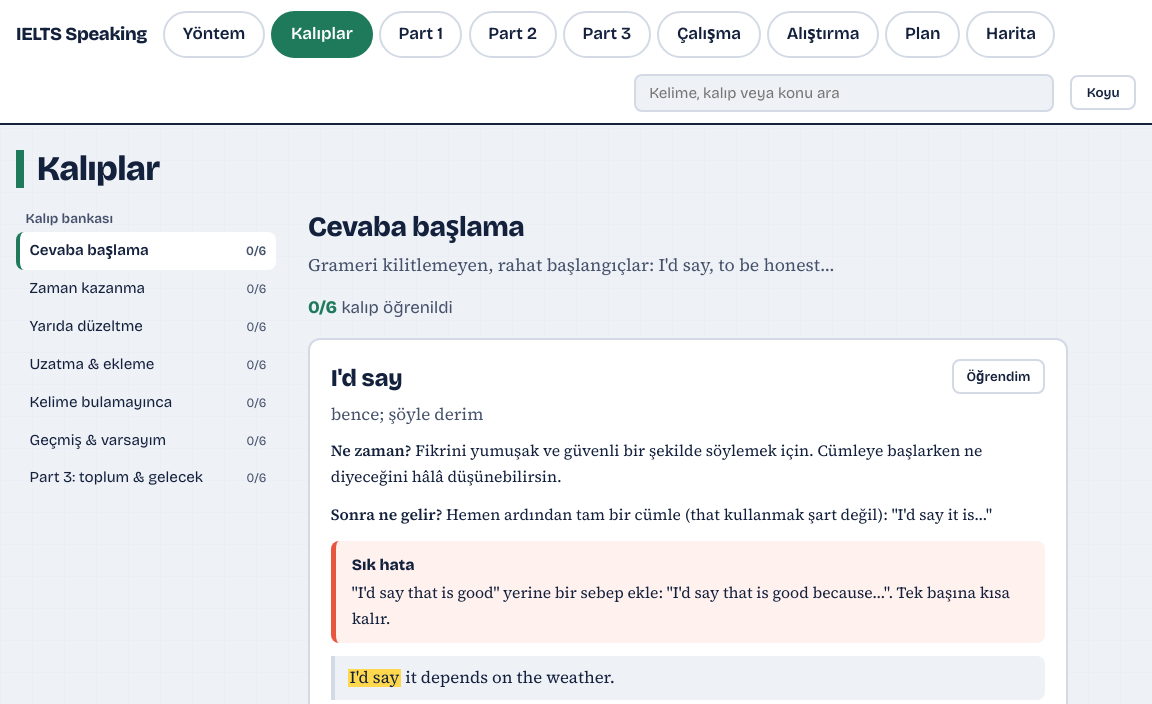
it: phrases page › search lists matching phrases from any category
Type "or rather" into the search field at (844, 93), box [634,74,1054,112]
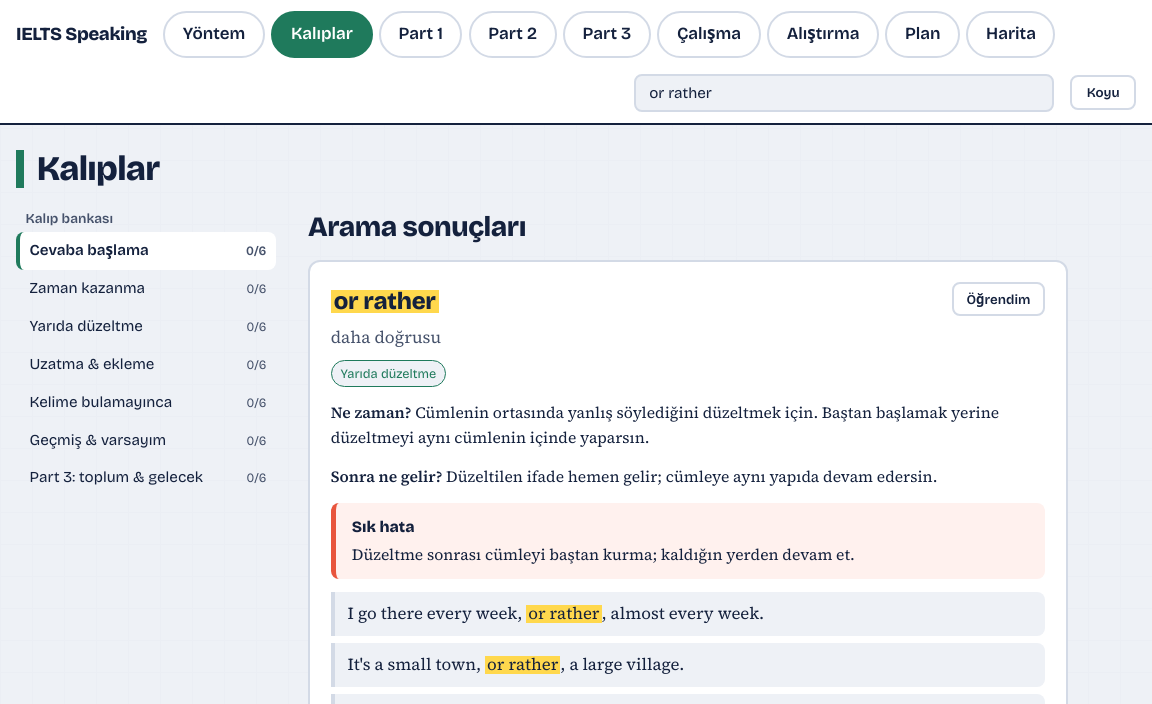
Expected: the heading "or rather" is shown, [331,282,441,321]
